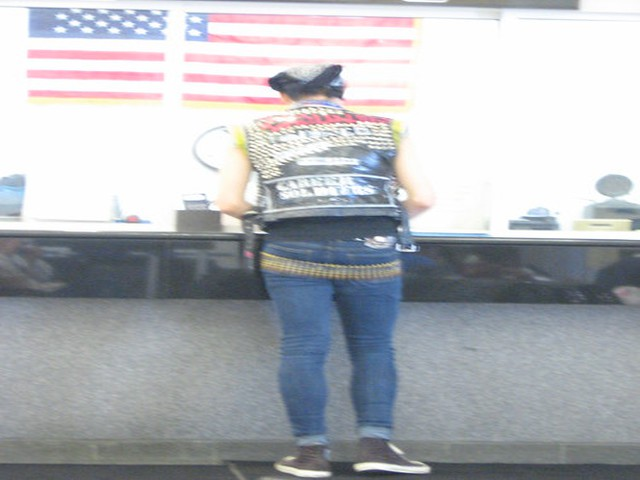Person: (218, 54, 446, 474)
